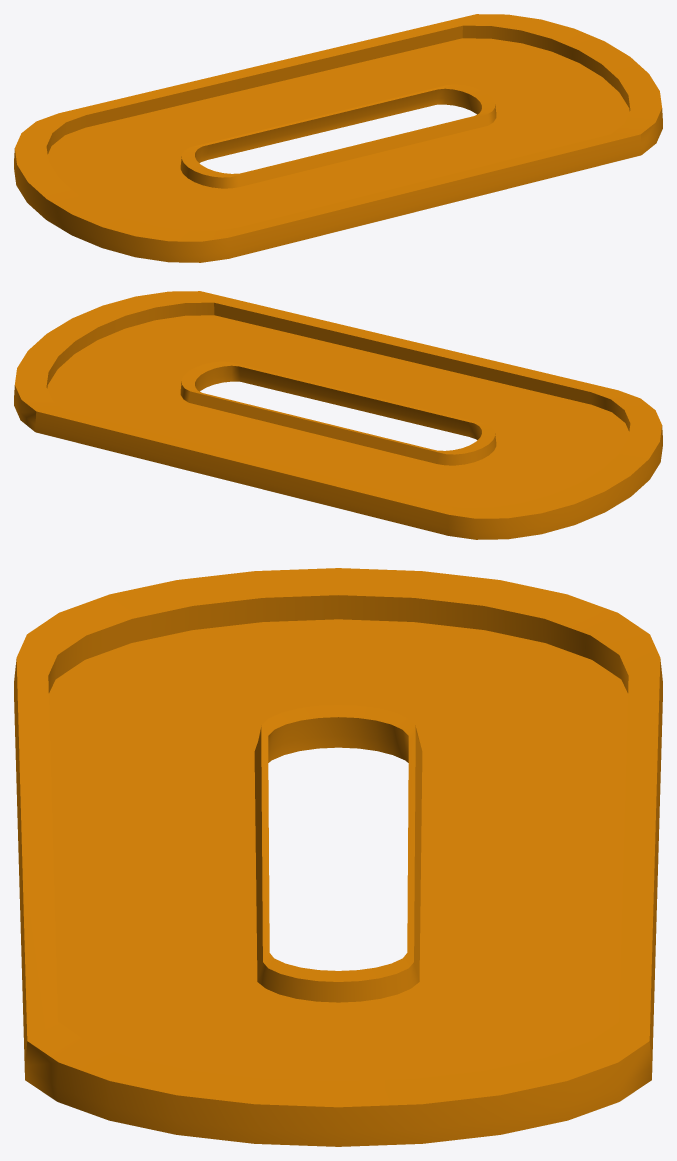
Rendered from oval_track.fbx.
3 renders of one model, top to bottom at view 1: azimuth 30°, elevation 25°; view 2: azimuth 150°, elevation 25°; view 3: azimuth 270°, elevation 25°, orthographic. The views are drawn at different scales.
Visible parts, largest first — view 1: pPipe1; view 2: pPipe1; view 3: pPipe1.
Part boxes in pixels (x1,y1,x2,y2): pPipe1: (14,14,662,262); pPipe1: (14,291,662,539); pPipe1: (14,568,662,1146).
Bounding box in the file's own units: 33.3 × 1.12 × 16.89.
